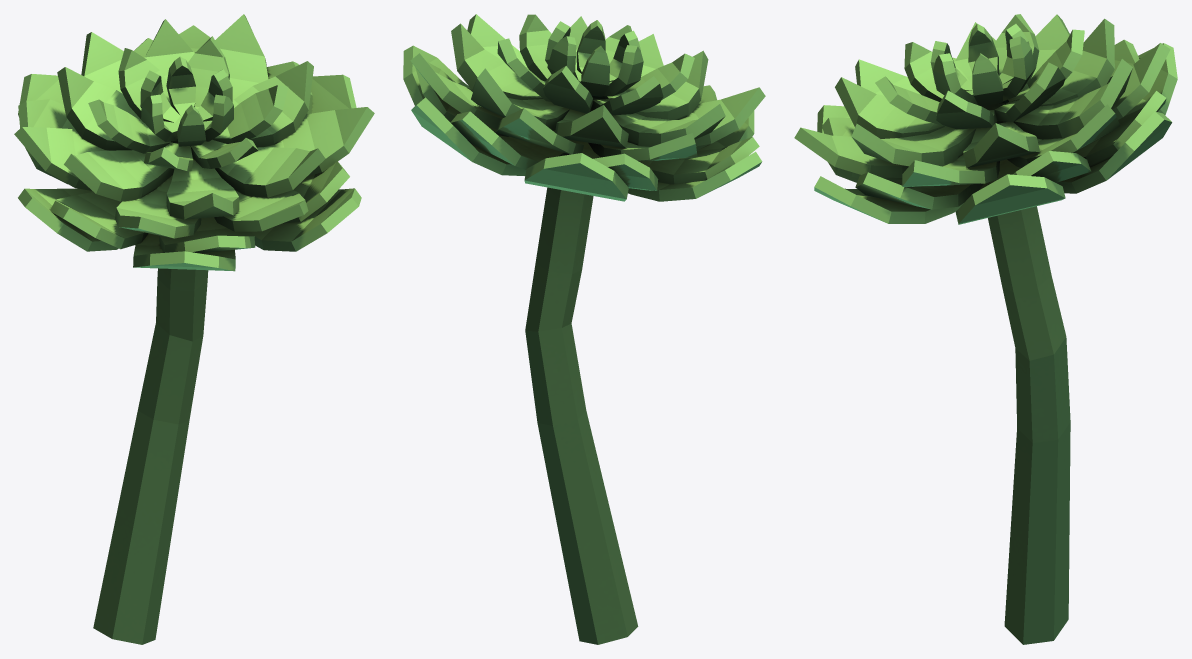
File: PUSHILIN_aeonium_plant.obj
3 views of the same model, side by side, from view 1: azimuth 30°, elevation 25°; view 2: azimuth 150°, elevation 25°; view 3: azimuth 270°, elevation 25° (orthographic). The views are drawn at different scales.
Parts seen in each view (by area): view 1: aeonium_plant; view 2: aeonium_plant; view 3: aeonium_plant.
Boxes of the visible parts, bbox=[...] form: aeonium_plant: bbox=[14, 14, 374, 644]; aeonium_plant: bbox=[403, 14, 765, 644]; aeonium_plant: bbox=[794, 14, 1177, 644].
Size of the model in its own units: 1.2 by 1.95 by 1.09.
1 material, 1 textured.
